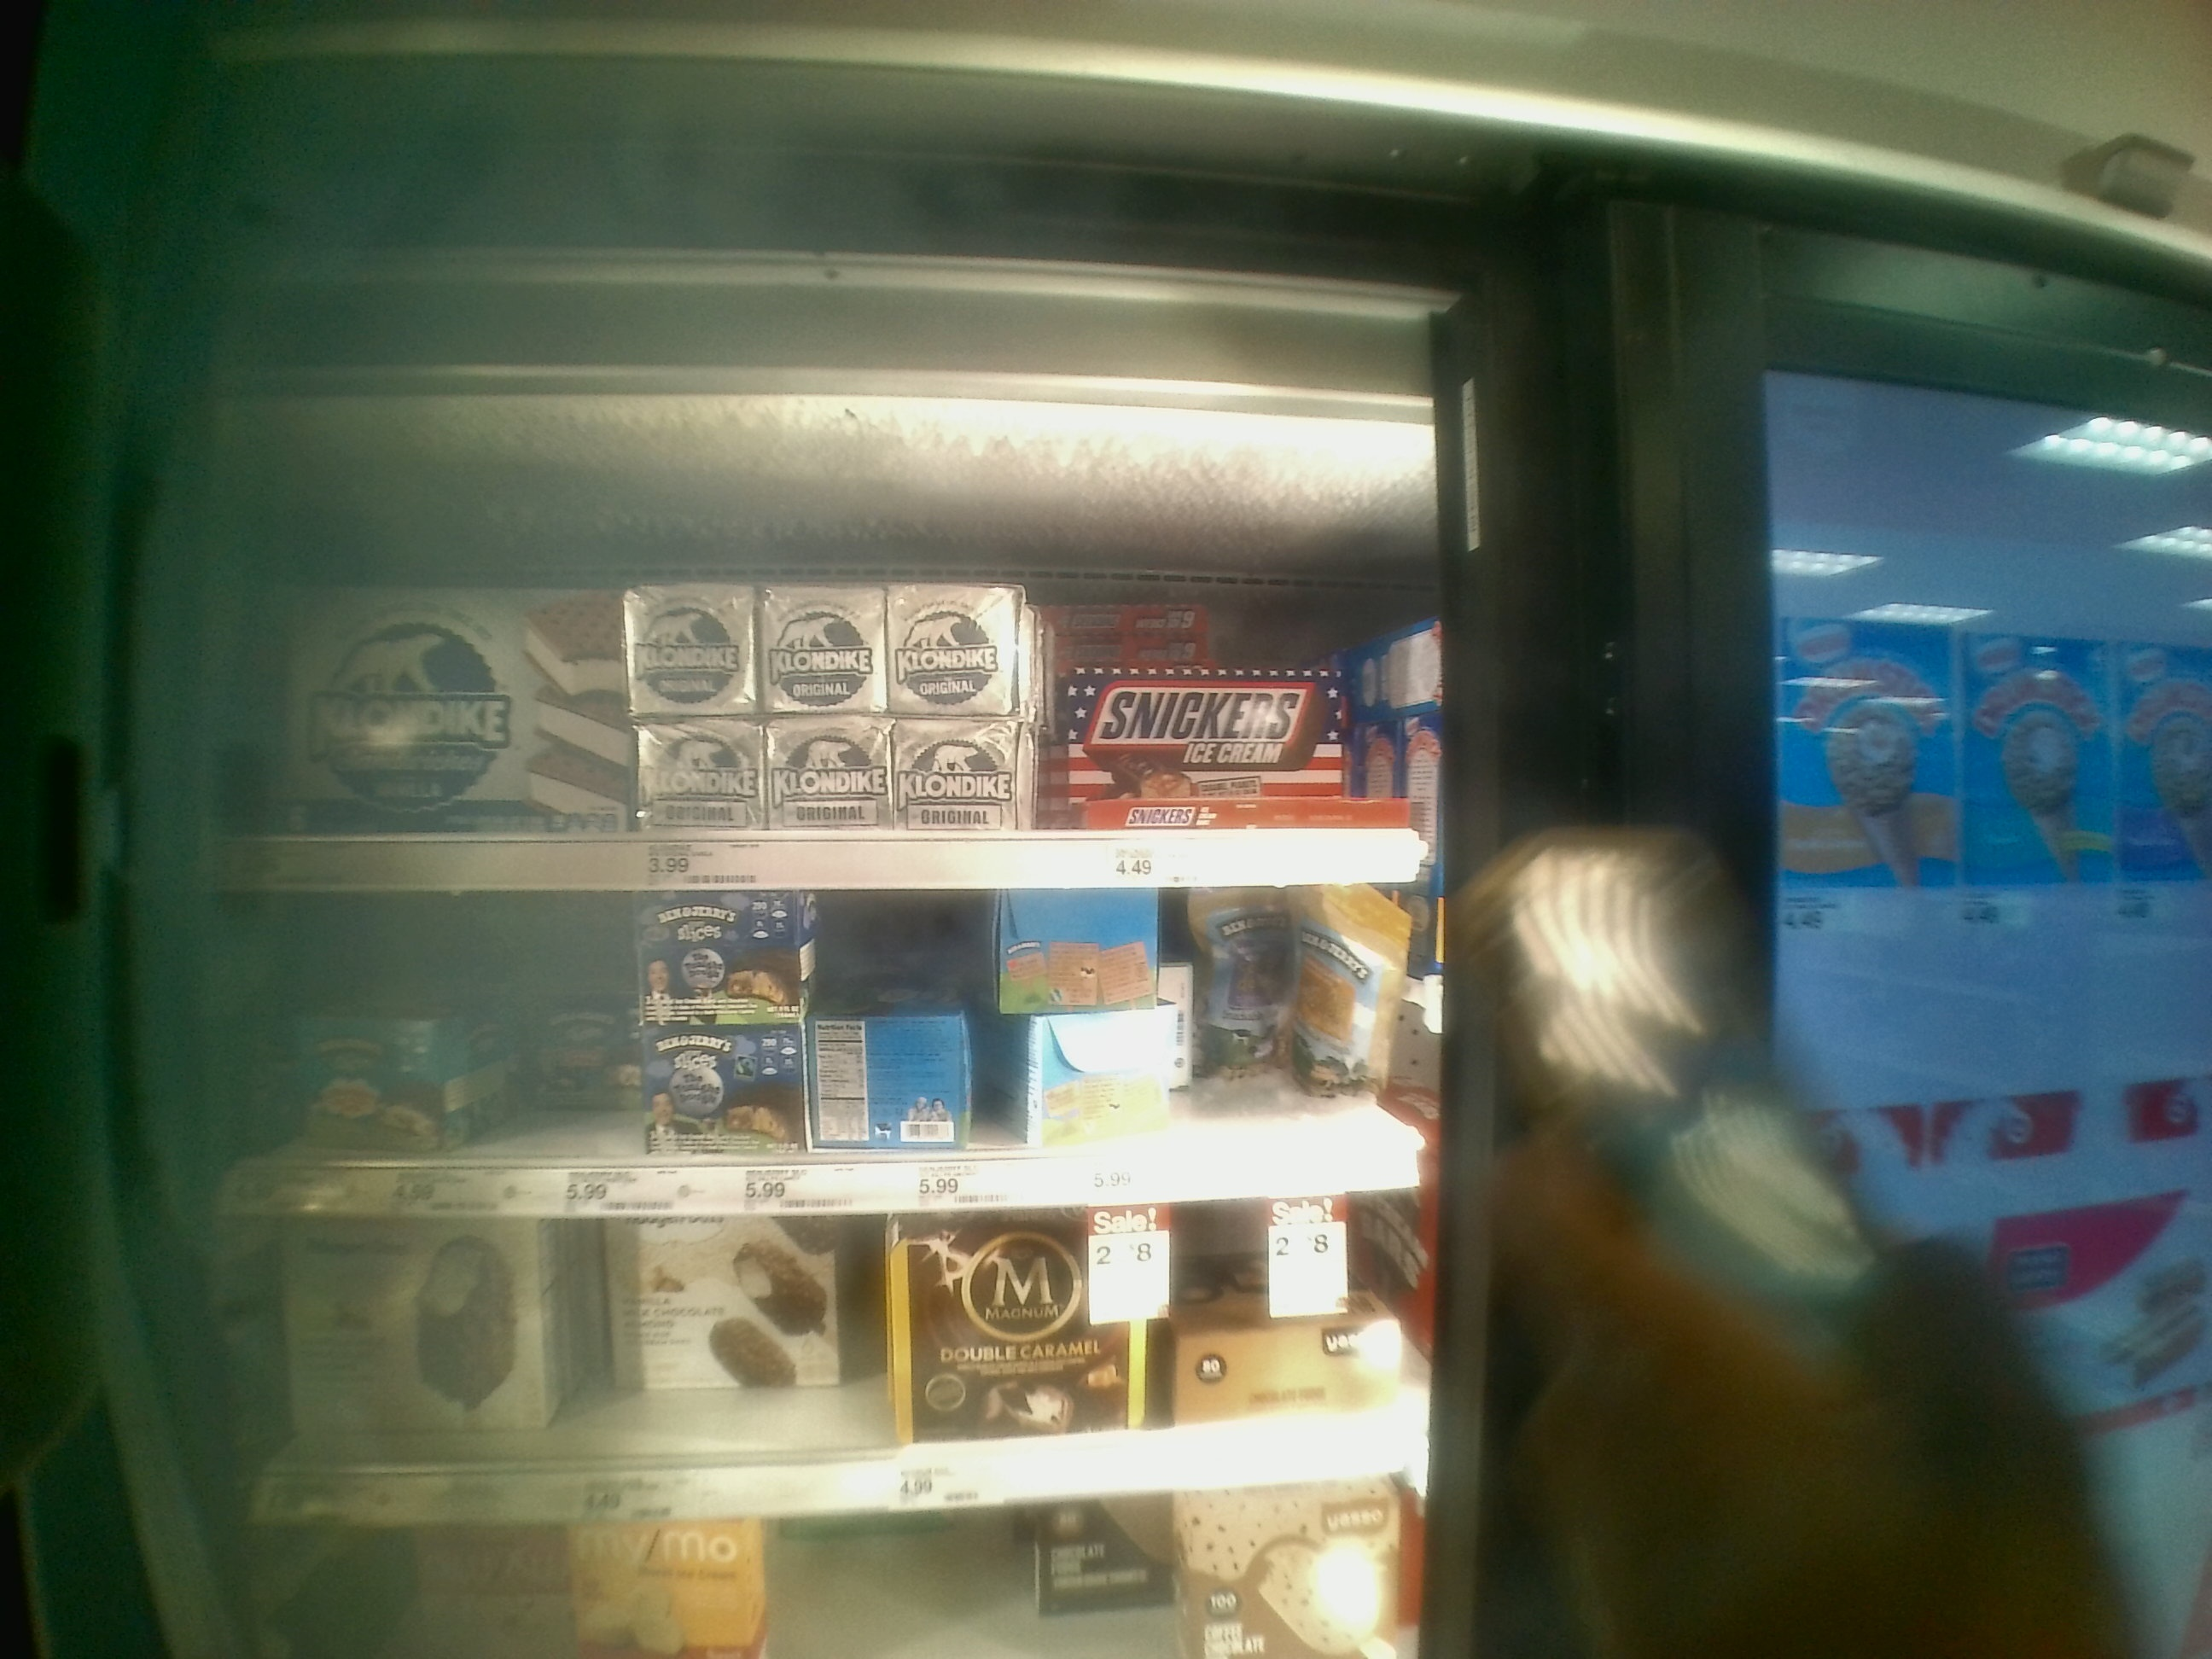ice-cream-shelf: (183, 404, 1440, 889), (190, 892, 1446, 1213)
